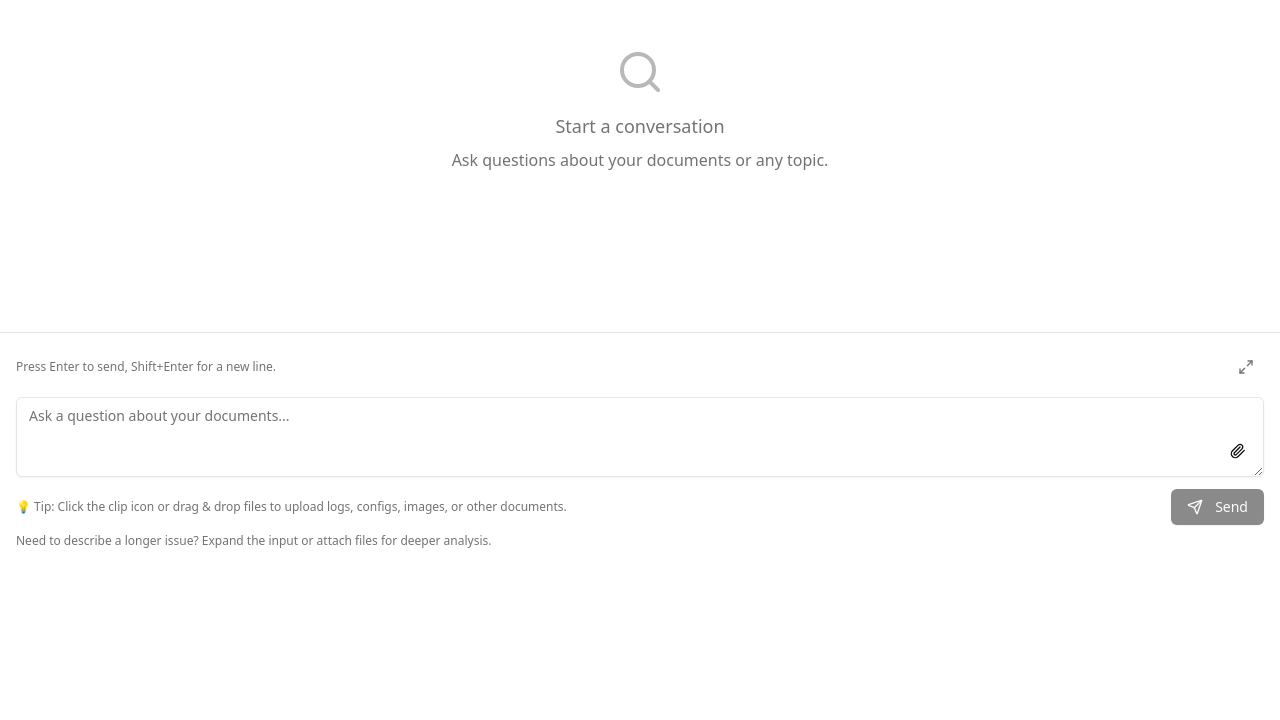
Test: ChatInterface copy response feature › shows toast when copy is successful
The image size is (1280, 720).
Type "Hello assistant" into the text box with placeholder "Ask a question about your documents..." at (640, 437), box left=16, top=397, right=1264, bottom=477
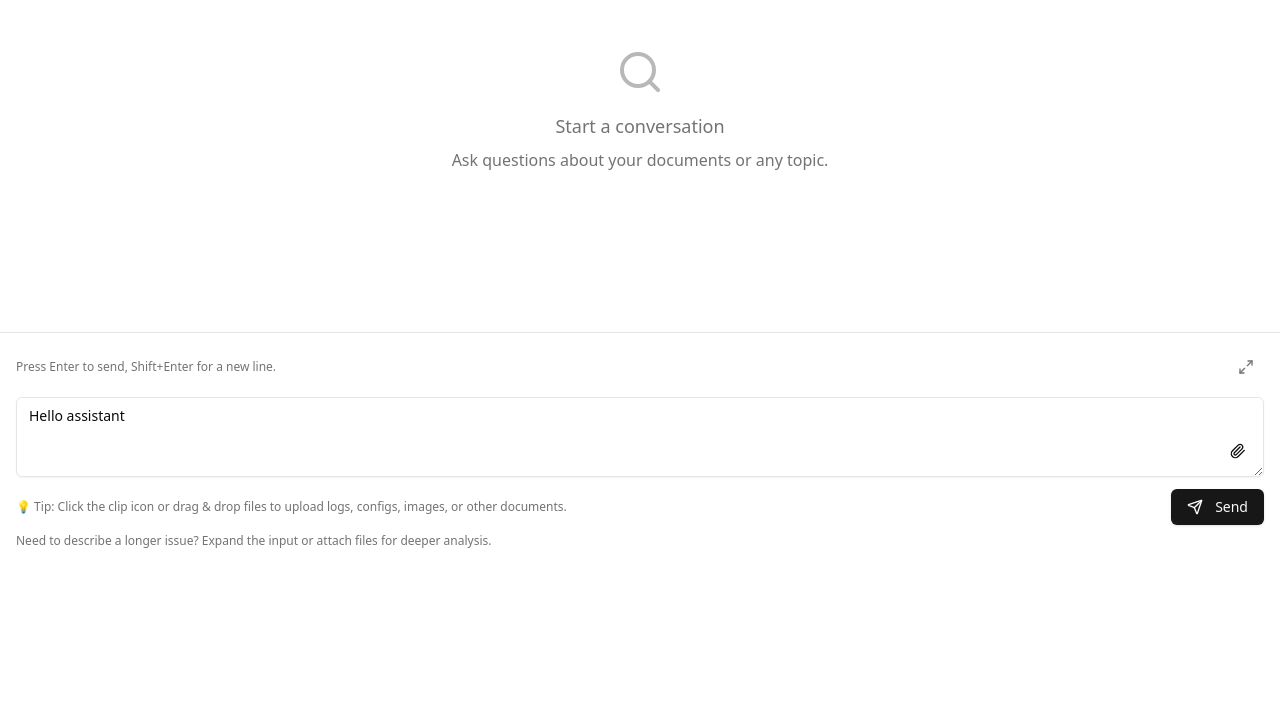
Press Enter in the text box with placeholder "Ask a question about your documents...", box left=16, top=397, right=1264, bottom=477
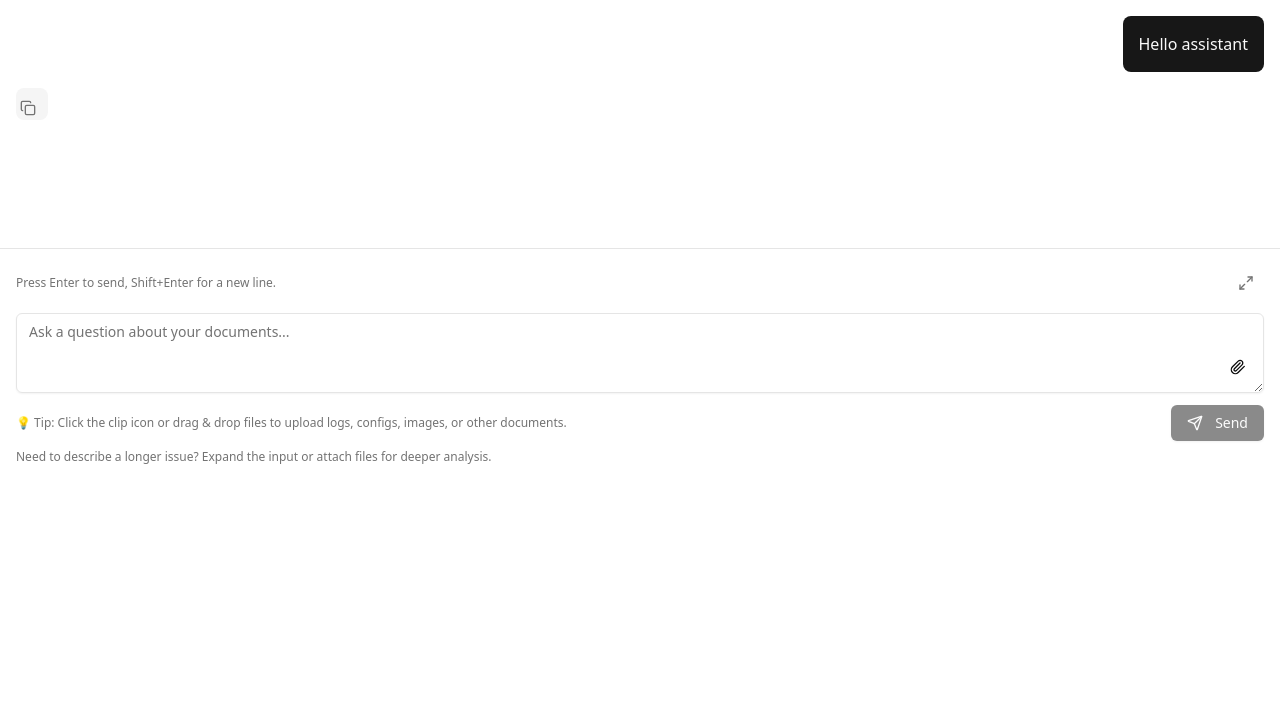
Click the button with test id "copy-btn" at (28, 108), box left=16, top=96, right=40, bottom=120
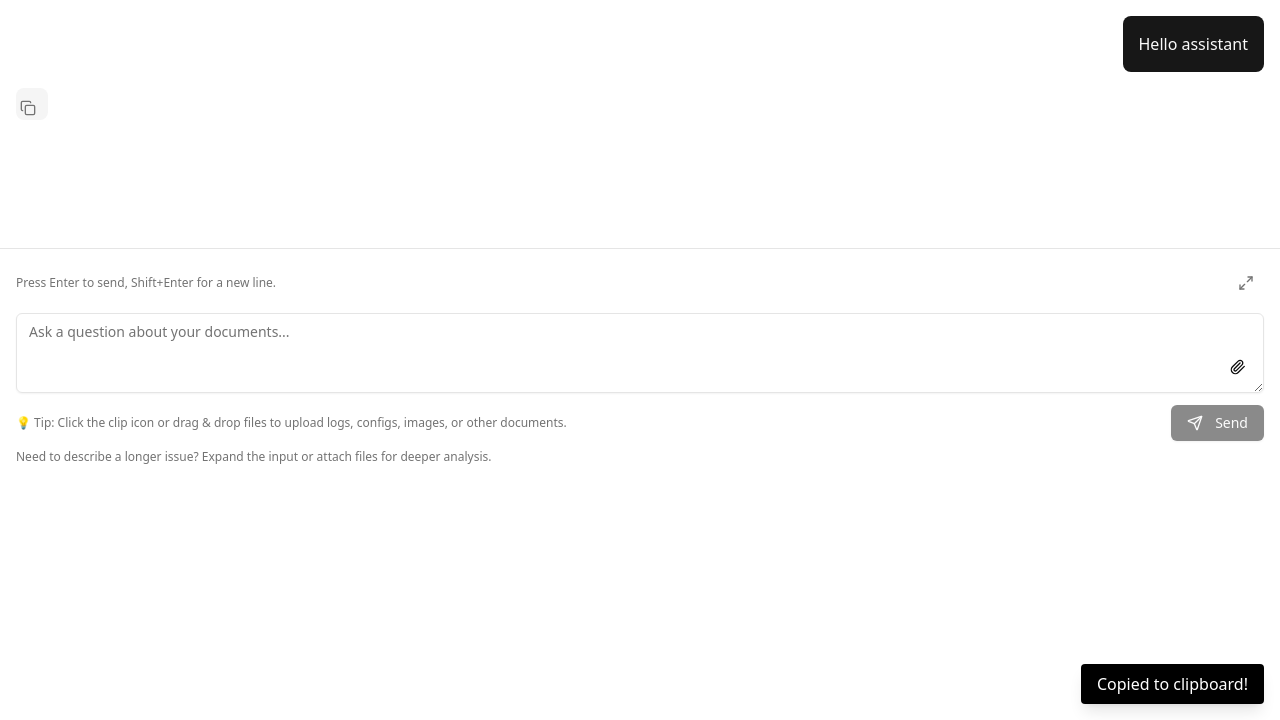
Expected: the text "Copied to clipboard!" is shown, left=1097, top=672, right=1248, bottom=696
